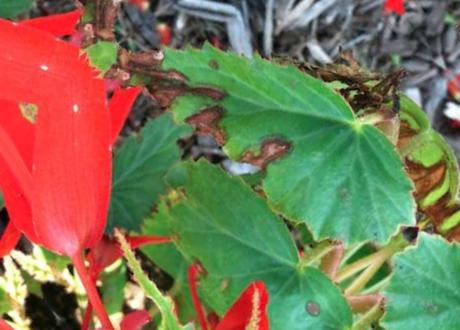Tomato leaf bacterial spot: (114, 0, 442, 303)
